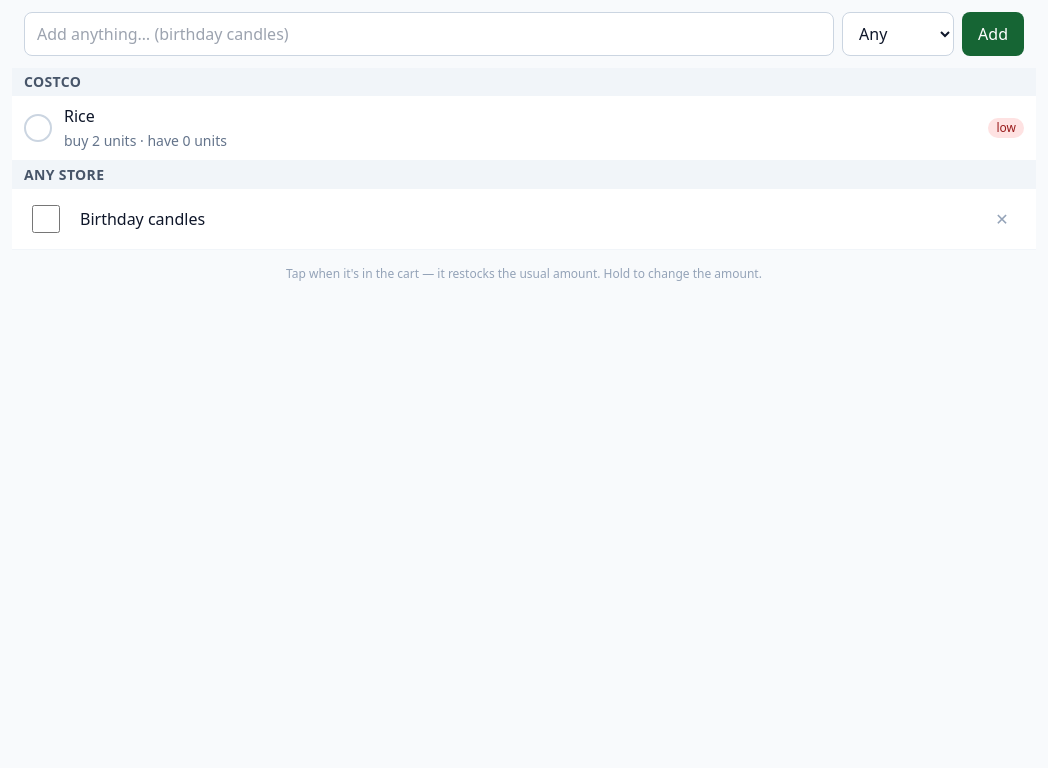
Test: Shopping screen › renders store groups in order with Any store last, and tapping an item entry purchases it with Undo
The width and height of the screenshot is (1048, 768).
expect the headings read "Costco", "Any store", in this order: met, box [12,68,1036,96]; [12,161,1036,189]
Step 1. Click the button with aria-label "Got Rice" → (79, 116), box [12,96,1036,161]
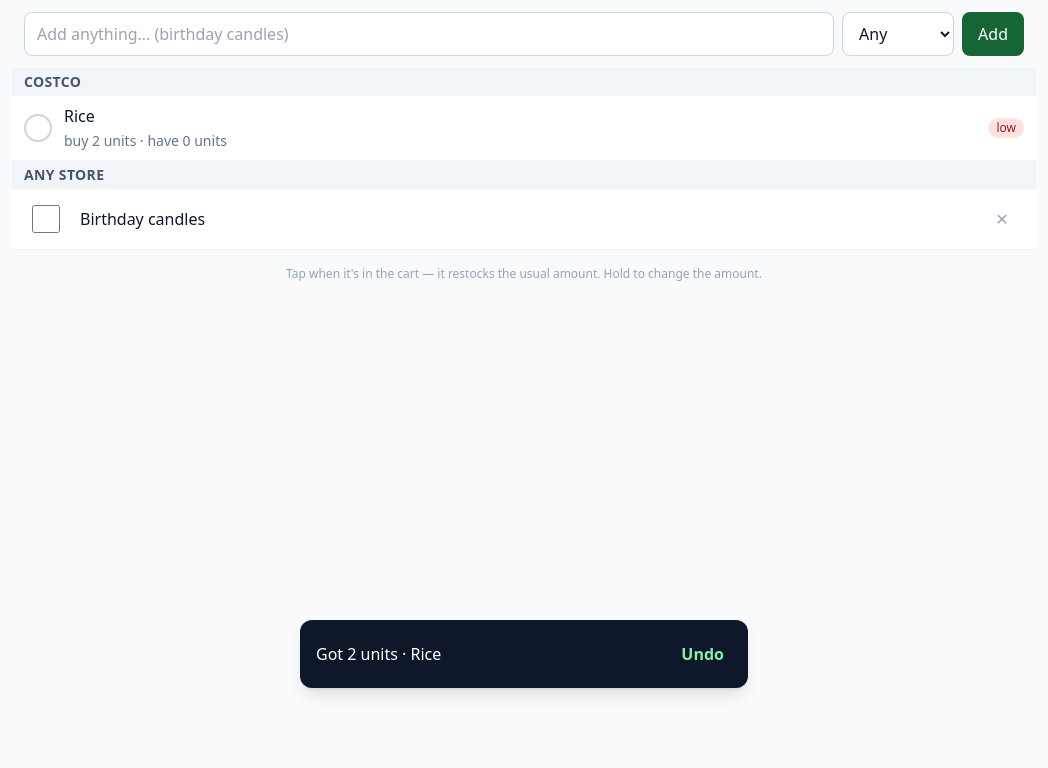
expect the text "Got 2 units · Rice" is shown: met, box [316,642,441,666]
expect the button "Undo" is shown: met, box [673,632,732,676]
